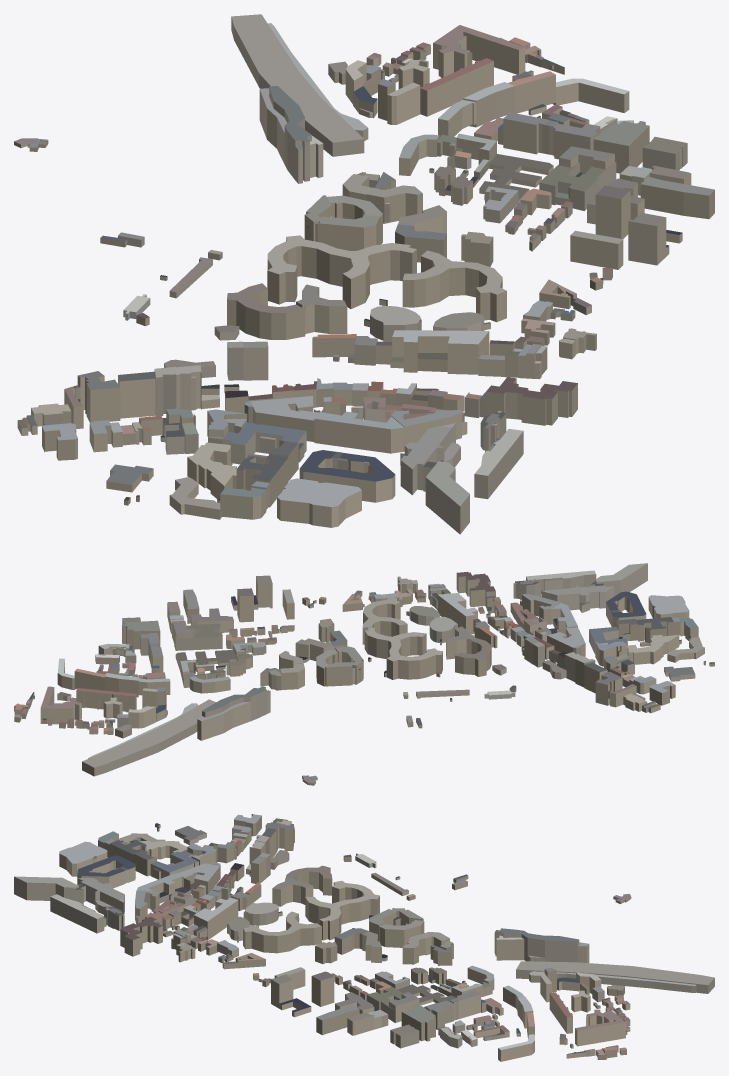
The picture shows the model from 3 angles, top to bottom: view 1: azimuth 30°, elevation 25°; view 2: azimuth 150°, elevation 25°; view 3: azimuth 270°, elevation 25°; orthographic projection. The views are drawn at different scales.
Parts seen in each view (by area): view 1: tuile; view 2: tuile; view 3: tuile.
Boxes of the visible parts, x1,y1,x2,y2 form: tuile: (14, 14, 714, 534); tuile: (14, 563, 714, 785); tuile: (14, 814, 714, 1061).
Bounding box in the file's own units: 804 × 66.33 × 990.
